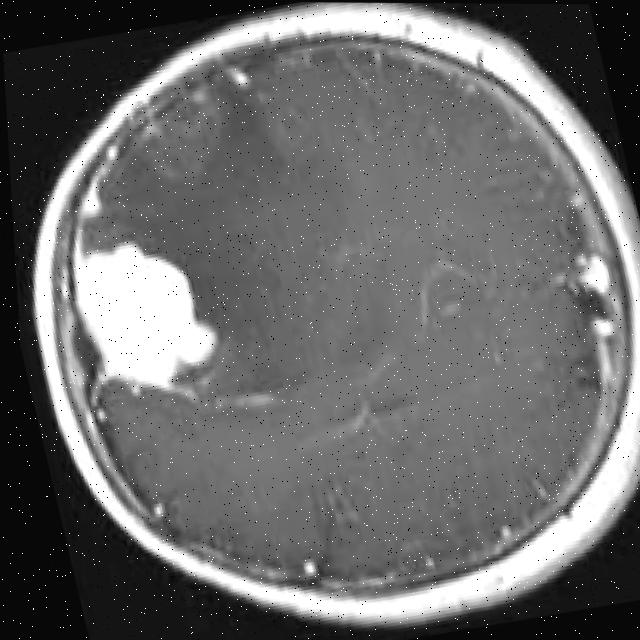Meningioma: (55, 208, 228, 406)
